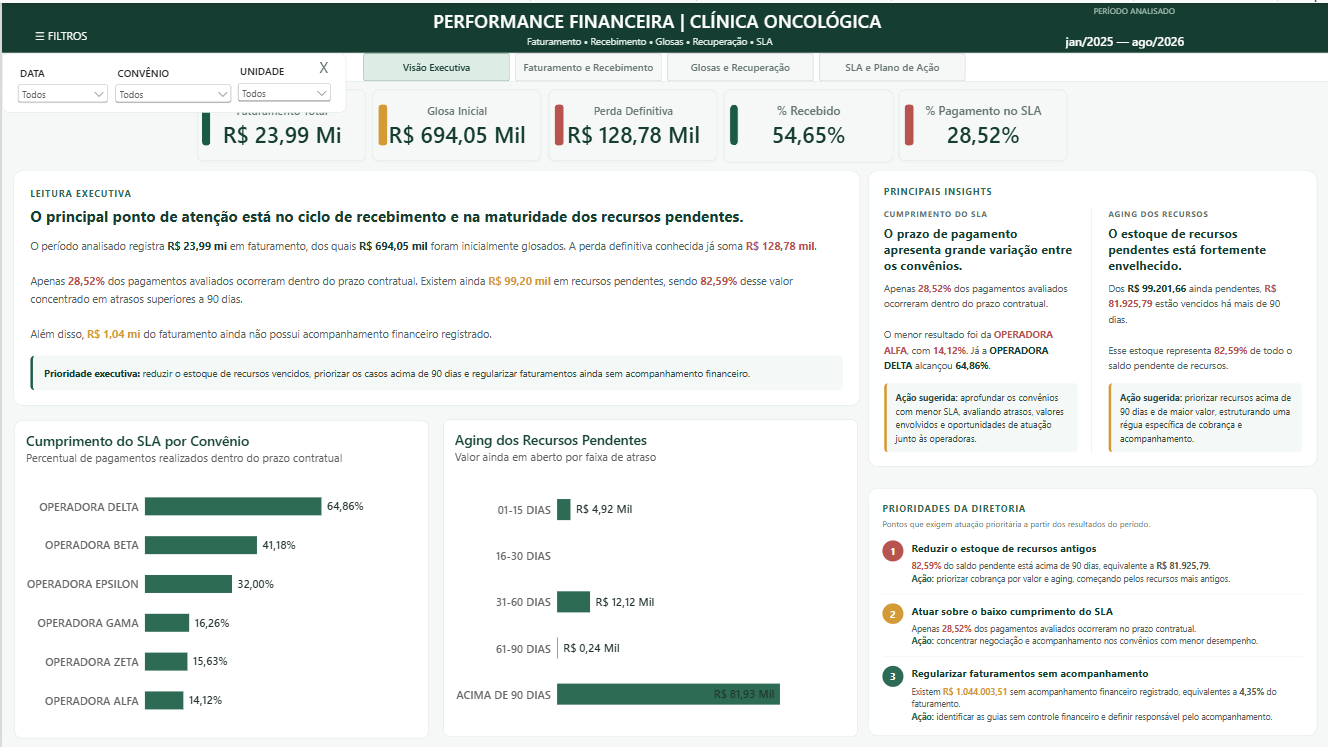

What the dashboard file says about the page in this screenshot:
{"tool":"powerbi","page":{"name":"Visão Executiva","canvas":[1920,1080],"ordinal":0},"visuals":[{"type":"group","id":"g1","title":"Cabeçalho","box":[0,0,2560,114],"z":0},{"type":"shape","box":[0,0,2560,72],"z":0,"group":"g1"},{"type":"cardVisual","fields":{"Data":["00_Medidas.Glosa Inicial"]},"box":[536,124.2,245,105.6],"z":0,"group":"g3"},{"type":"cardVisual","fields":{"Data":["00_Medidas.Perda Definitiva"]},"box":[789.9,124.2,245,105.6],"z":0,"group":"g4"},{"type":"cardVisual","fields":{"Data":["00_Medidas.% Recebido"]},"box":[1043.8,124.2,246.2,106.5],"z":0,"group":"g5"},{"type":"cardVisual","fields":{"Data":["00_Medidas.% Pagamento no SLA"]},"box":[1296.9,124.2,245,105.6],"z":0,"group":"g6"},{"type":"cardVisual","fields":{"Data":["00_Medidas.Faturamento Total"]},"box":[283,125.6,245,105.6],"z":0,"group":"g2"},{"type":"textbox","box":[624.3,7.2,669.6,57.9],"z":1000,"group":"g1"},{"type":"group","id":"g2","title":"Card 1","box":[283,125.6,245,105.6],"z":1000},{"type":"shape","box":[544.5,145.3,13.4,60],"z":1000,"group":"g3"},{"type":"shape","box":[798.4,145.3,13.4,60],"z":1000,"group":"g4"},{"type":"shape","box":[1305.4,145.3,13.4,60],"z":1000,"group":"g6"},{"type":"shape","box":[1052.4,145.5,13.5,60.5],"z":1000,"group":"g5"},{"type":"shape","box":[290.8,146.7,12.2,60],"z":1000,"group":"g2"},{"type":"textbox","box":[760,45.2,399.9,43.4],"z":2000,"group":"g1"},{"type":"group","id":"g3","title":"Card 2","box":[536,124.2,245.8,105.6],"z":2000},{"type":"cardVisual","title":"PERÍODO ANALISADO","fields":{"Data":["00_Medidas.Período Selecionado"]},"box":[1523.5,3.8,231.3,71.5],"z":3000,"group":"g1"},{"type":"group","id":"g4","title":"Card 3","box":[789.9,124.2,245.8,105.6],"z":3000},{"type":"shape","box":[0,72.4,2560,42],"z":4000,"group":"g1"},{"type":"group","id":"g5","title":"Card 1","box":[1043.8,124.2,245,105.6],"z":4000},{"type":"pageNavigator","box":[523.9,72.4,872.3,41.6],"z":5000,"group":"g1"},{"type":"group","id":"g6","title":"Card 1","box":[1296.9,124.2,245,105.6],"z":5000},{"type":"htmlContent443BE3AD55E043BF878BED274D3A6855","fields":{"content":["00_Medidas.HTML Resumo Executivo"]},"box":[0,228,1258,374],"z":6000},{"type":"clusteredBarChart","title":"Cumprimento do SLA por Convênio","fields":{"Category":["base_analitica_oncologia.NM_CONVENIO_PADRAO"],"Y":["00_Medidas.% Pagamento no SLA"]},"box":[18,604,600,460],"z":7000},{"type":"clusteredBarChart","title":"Aging dos Recursos Pendentes","fields":{"Category":["Dim_Aging_Recurso.FAIXA_AGING_RECURSO"],"Y":["00_Medidas.Recurso Pendente"]},"box":[638,602,600,460],"z":8000},{"type":"htmlContent443BE3AD55E043BF878BED274D3A6855","fields":{"content":["00_Medidas.HTML Insights Executivos"]},"box":[1238,228,682,460],"z":9000},{"type":"actionButton","box":[24,18,124,58],"z":9500},{"type":"htmlContent443BE3AD55E043BF878BED274D3A6855","fields":{"content":["00_Medidas.HTML Prioridades Diretoria"]},"box":[1238,688,682,392],"z":10000}]}

Visuals, with their boxes in screenshot pixels (x1, y1, x2, y2), scaled from the page's 1920x1080 canvas onto the 1328x747 screenshot:
"Cabeçalho" group: {"left": 0, "top": 0, "right": 1327, "bottom": 79}
shape: {"left": 0, "top": 0, "right": 1327, "bottom": 50}
cardVisual - 00_Medidas.Glosa Inicial: {"left": 371, "top": 86, "right": 540, "bottom": 159}
cardVisual - 00_Medidas.Perda Definitiva: {"left": 546, "top": 86, "right": 716, "bottom": 159}
cardVisual - 00_Medidas.% Recebido: {"left": 722, "top": 86, "right": 892, "bottom": 160}
cardVisual - 00_Medidas.% Pagamento no SLA: {"left": 897, "top": 86, "right": 1066, "bottom": 159}
cardVisual - 00_Medidas.Faturamento Total: {"left": 196, "top": 87, "right": 365, "bottom": 160}
textbox: {"left": 432, "top": 5, "right": 895, "bottom": 45}
"Card 1" group: {"left": 196, "top": 87, "right": 365, "bottom": 160}
shape: {"left": 377, "top": 100, "right": 386, "bottom": 142}
shape: {"left": 552, "top": 100, "right": 561, "bottom": 142}
shape: {"left": 903, "top": 100, "right": 912, "bottom": 142}
shape: {"left": 728, "top": 101, "right": 737, "bottom": 142}
shape: {"left": 201, "top": 101, "right": 210, "bottom": 143}
textbox: {"left": 526, "top": 31, "right": 802, "bottom": 61}
"Card 2" group: {"left": 371, "top": 86, "right": 541, "bottom": 159}
"PERÍODO ANALISADO" cardVisual: {"left": 1054, "top": 3, "right": 1214, "bottom": 52}
"Card 3" group: {"left": 546, "top": 86, "right": 716, "bottom": 159}
shape: {"left": 0, "top": 50, "right": 1327, "bottom": 79}
"Card 1" group: {"left": 722, "top": 86, "right": 891, "bottom": 159}
pageNavigator: {"left": 362, "top": 50, "right": 966, "bottom": 79}
"Card 1" group: {"left": 897, "top": 86, "right": 1066, "bottom": 159}
htmlContent443BE3AD55E043BF878BED274D3A6855 - 00_Medidas.HTML Resumo Executivo: {"left": 0, "top": 158, "right": 870, "bottom": 416}
"Cumprimento do SLA por Convênio" clusteredBarChart: {"left": 12, "top": 418, "right": 427, "bottom": 736}
"Aging dos Recursos Pendentes" clusteredBarChart: {"left": 441, "top": 416, "right": 856, "bottom": 735}
htmlContent443BE3AD55E043BF878BED274D3A6855 - 00_Medidas.HTML Insights Executivos: {"left": 856, "top": 158, "right": 1327, "bottom": 476}
actionButton: {"left": 17, "top": 12, "right": 102, "bottom": 53}
htmlContent443BE3AD55E043BF878BED274D3A6855 - 00_Medidas.HTML Prioridades Diretoria: {"left": 856, "top": 476, "right": 1327, "bottom": 746}
